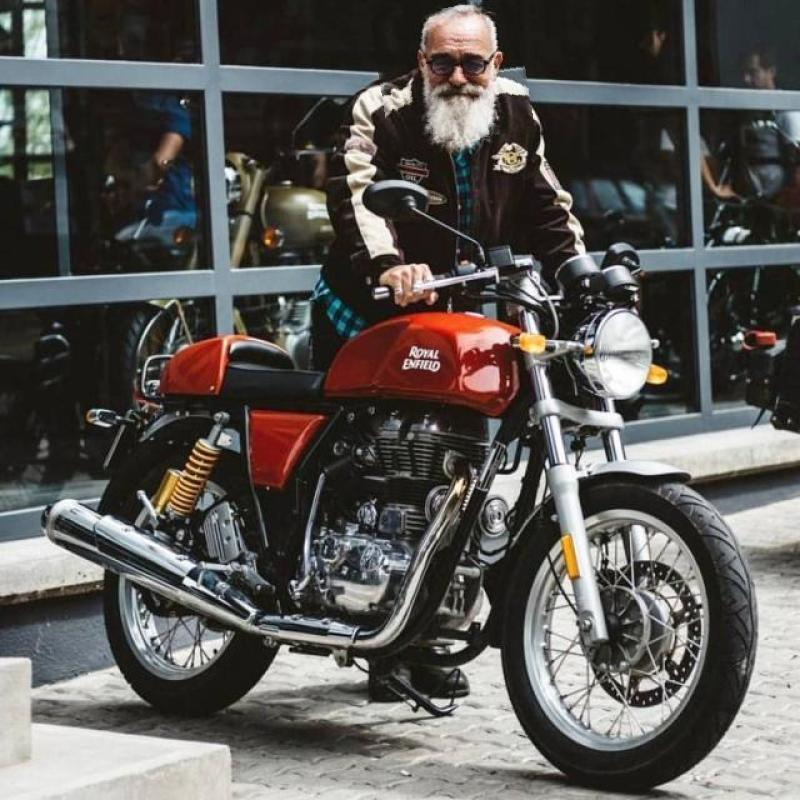nohelmet: (376, 2, 531, 147)
